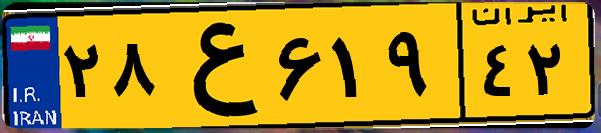1: (330, 28, 385, 110)
2: (57, 26, 110, 100), (525, 38, 570, 115)
4: (475, 38, 525, 113)
6: (270, 28, 330, 110)
8: (110, 28, 158, 98)
9: (385, 28, 445, 110)
ع: (158, 12, 270, 120)
